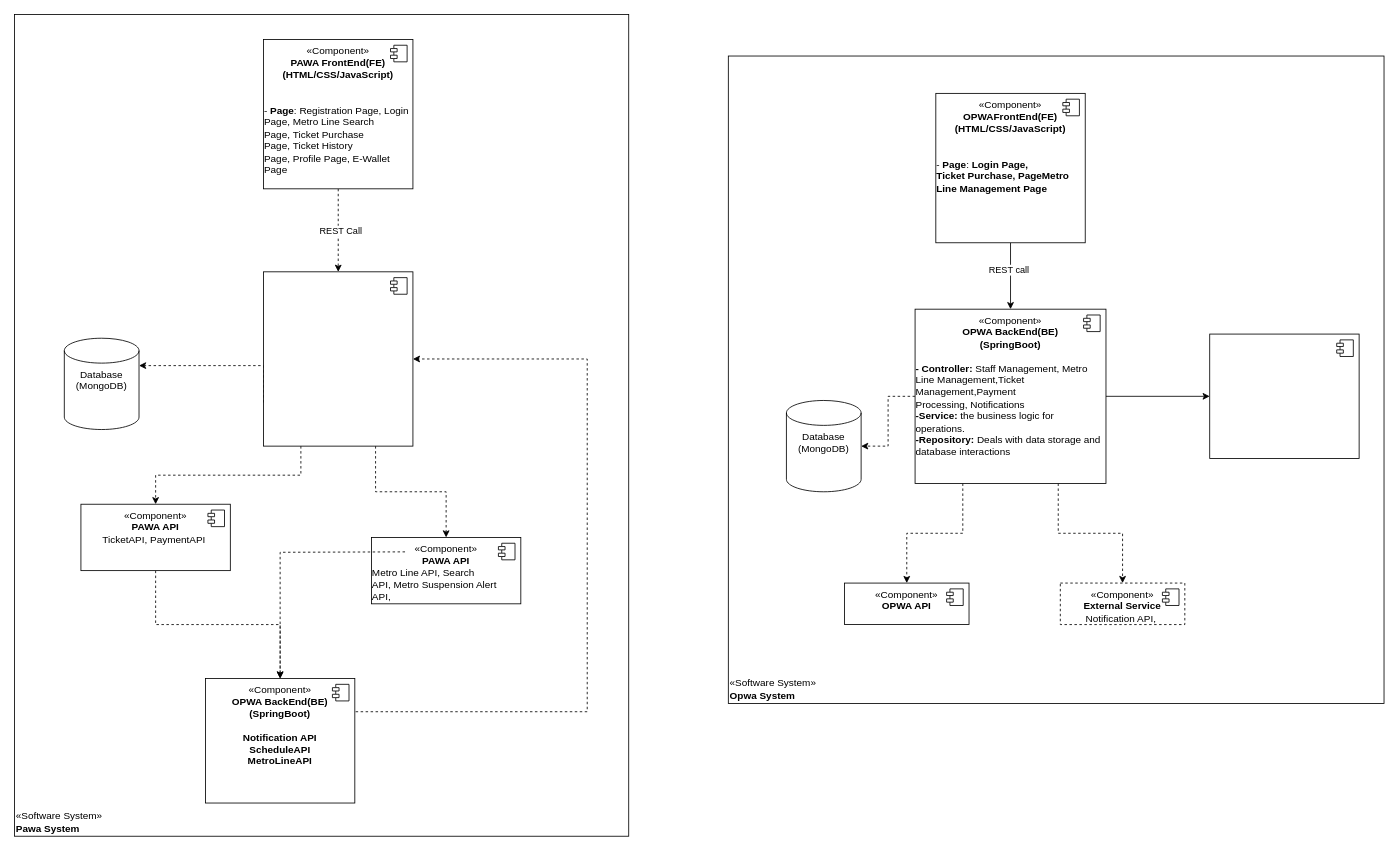
This 1399x851 diagram has some shape labels left out. The shapes that lost their labels are listed below. From the top down, each one's centre as x and y in pixels, then its label:
At point 338,358: "«Component» PAWA BackEnd(BE) (SpringBoot) - Controller -Service -Repository".
At point 1284,396: "«Component» PAWA BackEnd(BE) (SpringBoot) Ticket API PaymentAPI".
